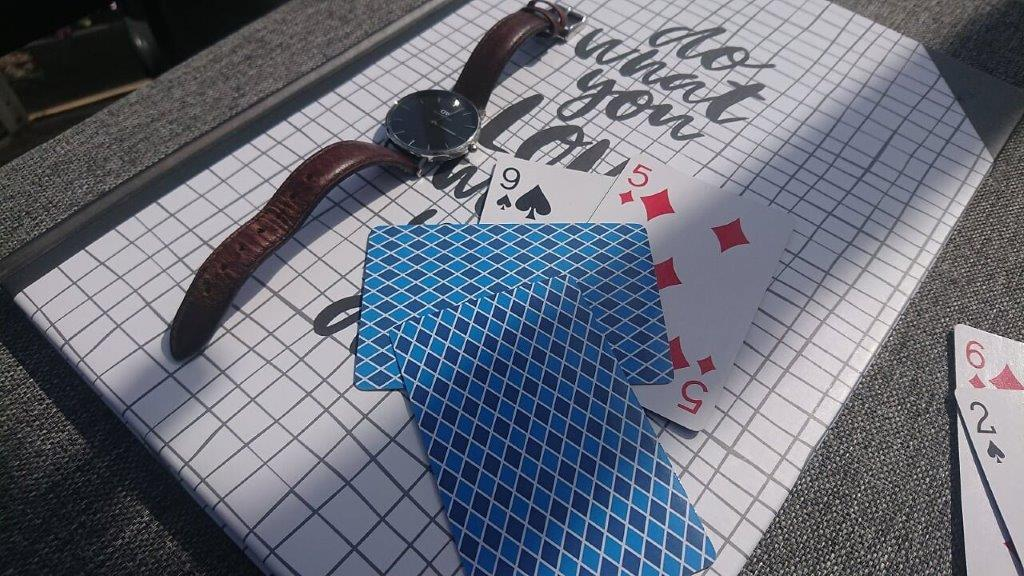2S: (965, 398, 1009, 469)
5D: (615, 160, 655, 208)
6D: (961, 337, 991, 389)
9S: (491, 164, 523, 213)
BACK: (388, 273, 720, 576), (360, 224, 658, 273)
